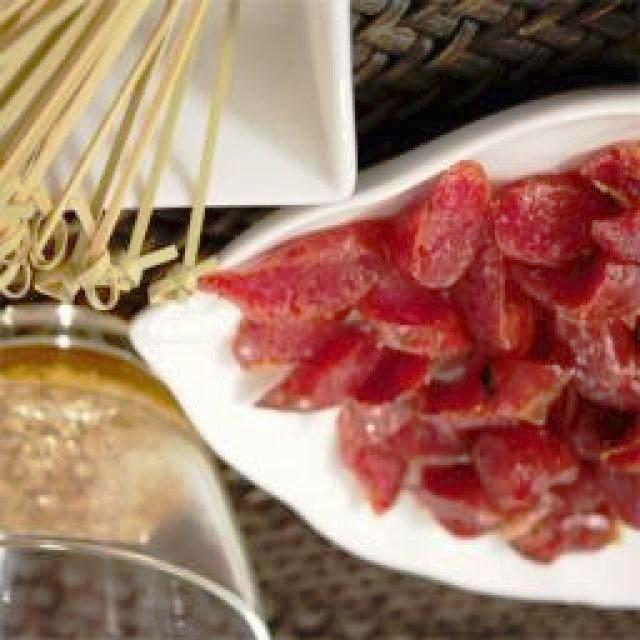chinese_sausage: (197, 142, 640, 562)
